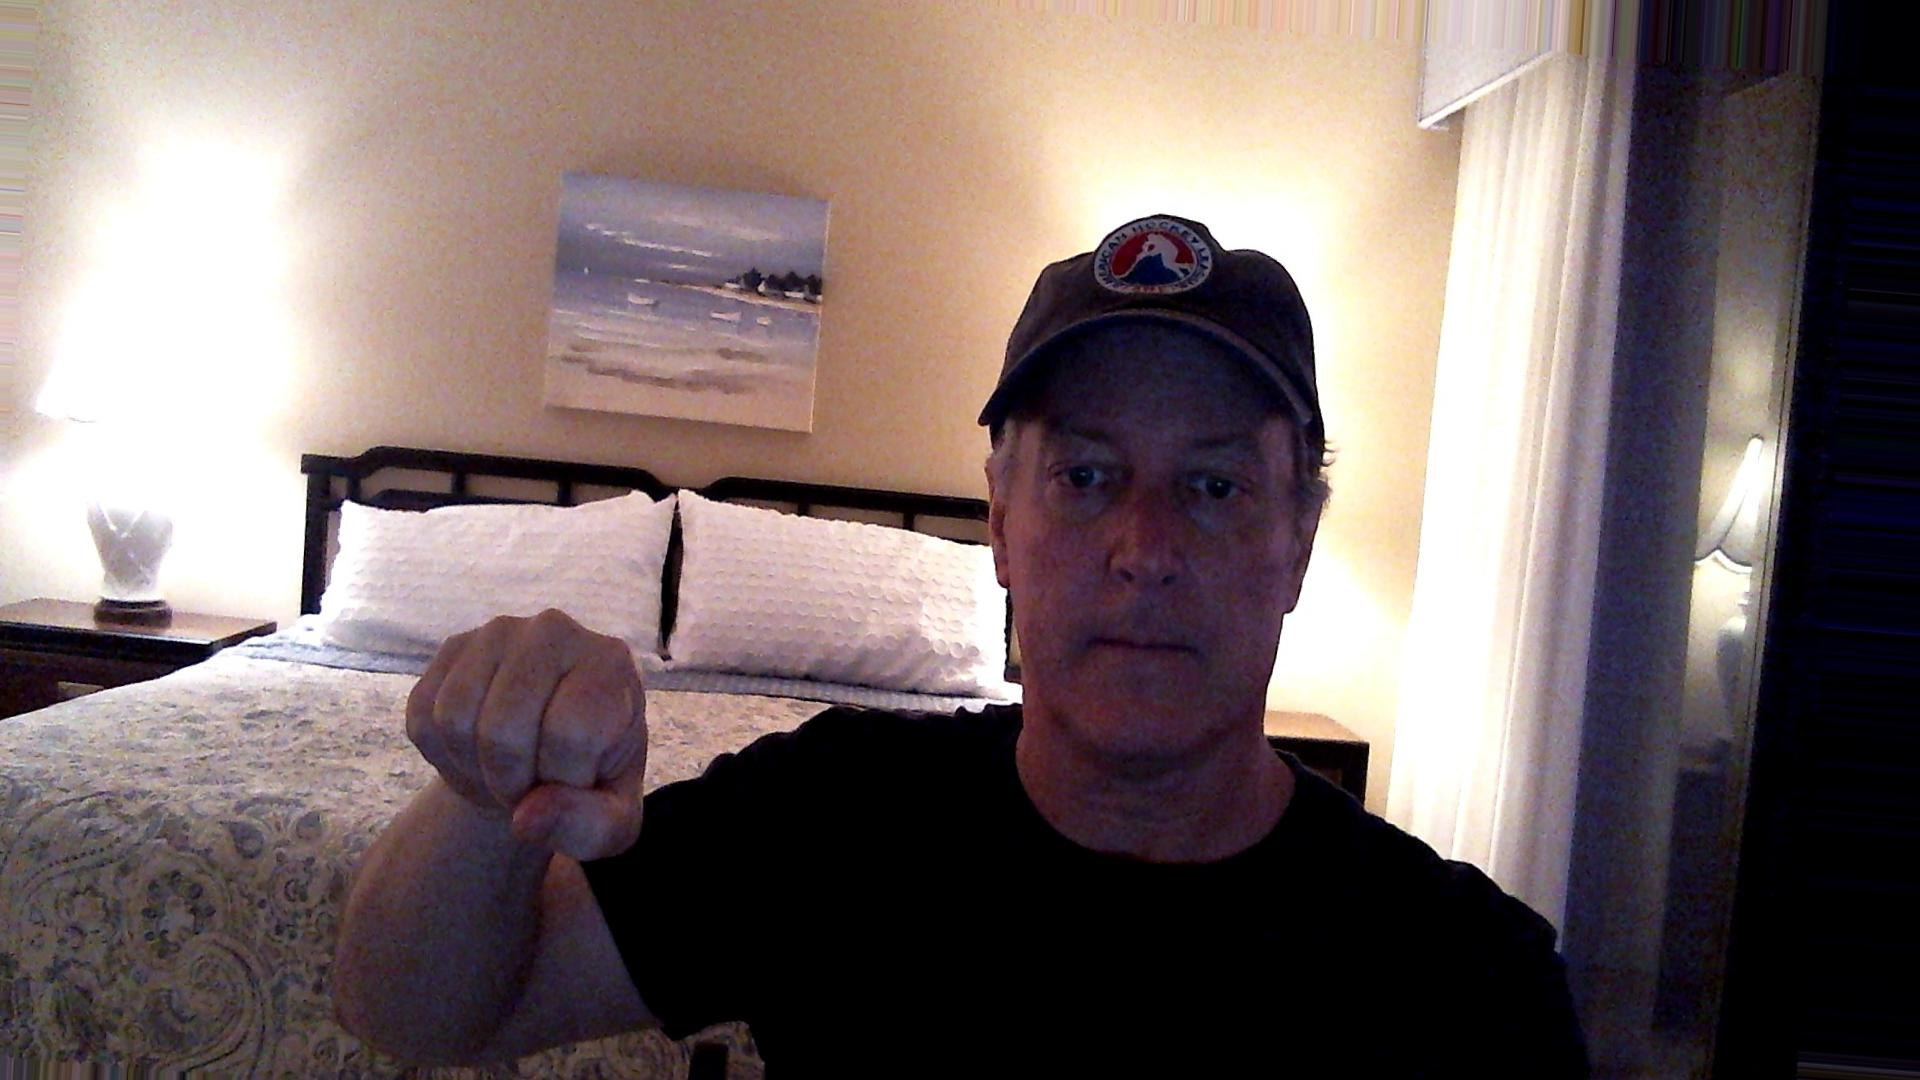Yes: (393, 597, 680, 876)
